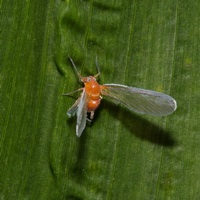insect: (63, 57, 176, 136)
